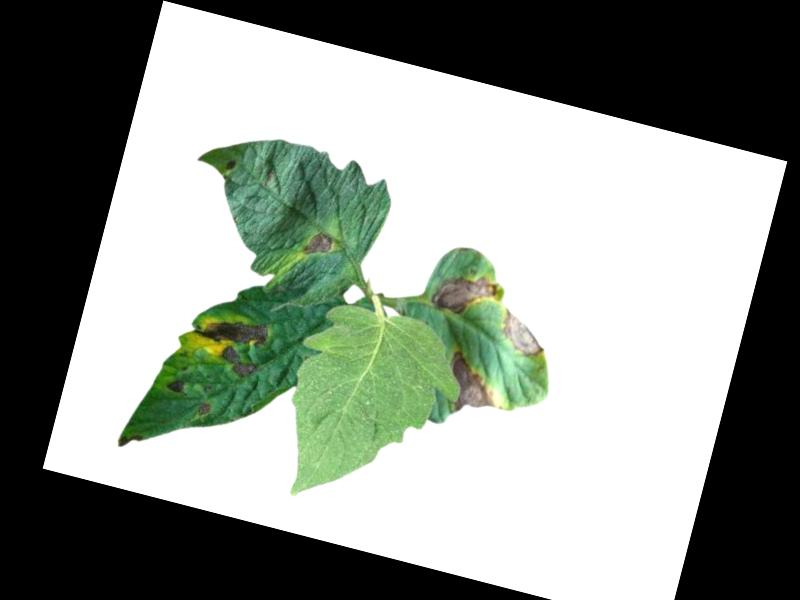Early_blight: (184, 306, 273, 382), (439, 349, 514, 424), (429, 265, 505, 327), (496, 304, 554, 361), (302, 229, 336, 262), (165, 377, 187, 397), (197, 402, 212, 418)
healthy: (264, 279, 478, 530), (225, 160, 237, 173)
